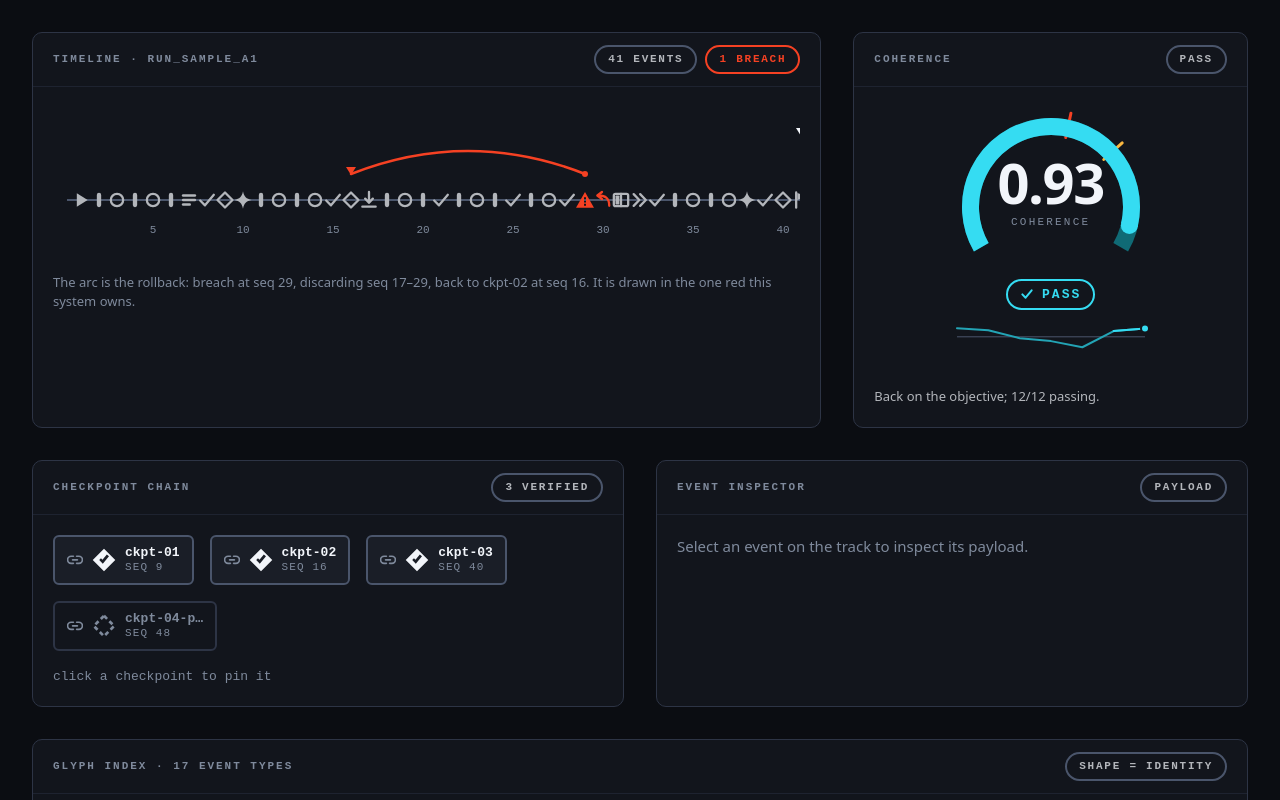
Scenario: SampleScreen › wires checkpoint clicks
Check: the text "click a checkpoint to pin it" is shown, box [53, 669, 271, 684]
Click the button with aria-label "Checkpoint ckpt-02" at (280, 560), box [210, 535, 350, 585]
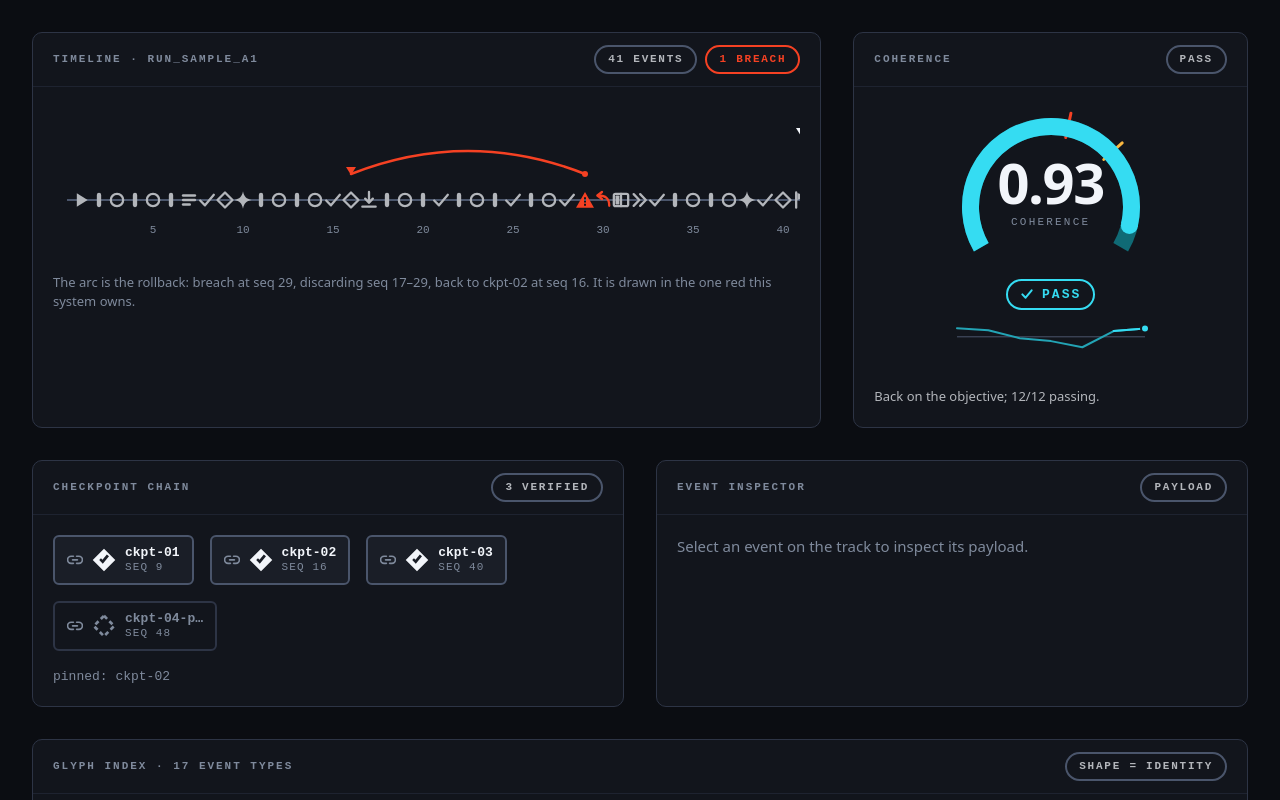
Check: the text "pinned: ckpt-02" is shown, box [53, 669, 170, 684]
